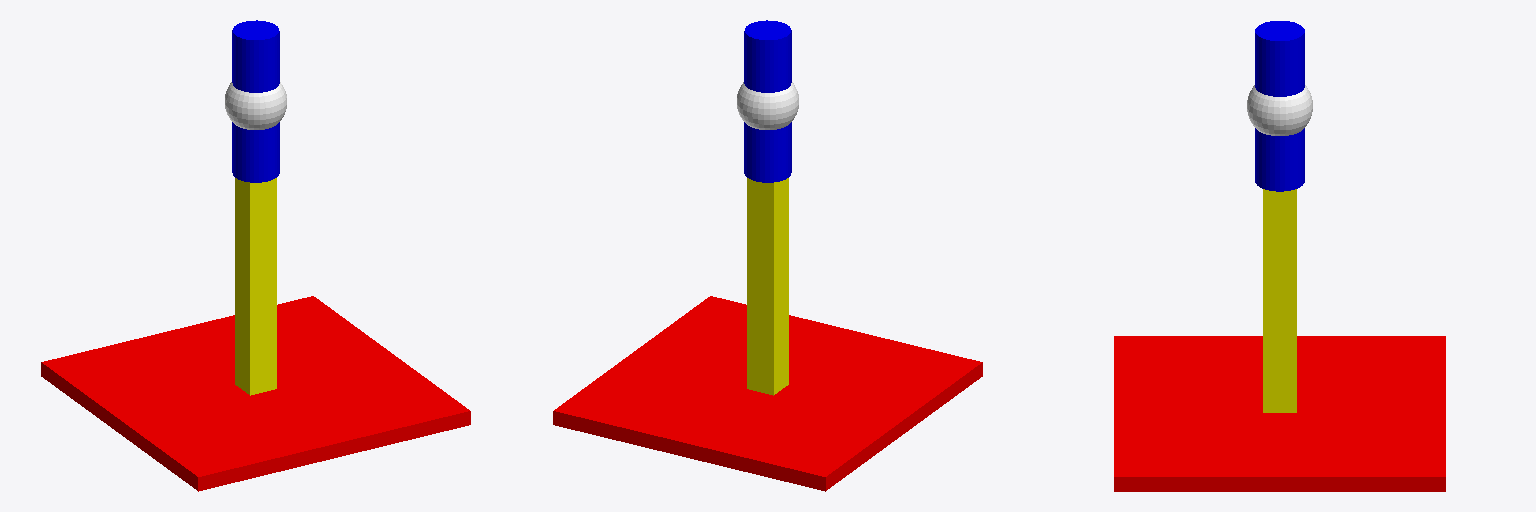
URDF robot description (pan_tilt):
<?xml version="1.0"?>
<robot name="pan_tilt">

	<!-- definire culori si transparenta -->
	<material name="white">
		<color rgba="1 1 1 0.3"/>
	</material>

	<material name="blue">
		<color rgba="0 0 1 0.5"/>
	</material>

	<material name="yellow">
		<color rgba="1 1 0 1"/>
	</material>

	<material name="red">
		<color rgba="1 0 0 0.8"/>
	</material>


	<!-- baza robotului -->
	<link name="base_link">

		<!-- baza robotului VIZUAL-->
		<visual>

			<!-- baza robotului GEOMETRIE-->
			<geometry>
				<box size="1 1 0.05"/>
			</geometry>
			<material name="red"/>
			<origin rpy="0 0 0" xyz="0 0 0.025"/>

		</visual>

	</link>


	<!-- element de tip pan -->
	<link name="pan_link">

		<!-- baza robotului VIZUAL-->
		<visual>

			<!-- baza robotului GEOMETRIE-->
			<geometry>
				<box size="0.1 0.1 1"/>
			</geometry>
			<material name="yellow"/>
			<origin rpy="0 0 0" xyz="0 0 0.5"/>
		</visual>

	</link>

	<!-- element de tip sfera -->
	<link name="sphere_link">

		<!-- baza robotului VIZUAL-->
		<visual>

			<!-- baza robotului GEOMETRIE-->
			<geometry>
				<sphere radius="0.1"/>
			</geometry>
			<material name="white"/>
			<origin rpy="0 0 0" xyz="0 0 0"/>
		</visual>

	</link>

	<!-- element de tip tilt -->
	<link name="tilt_link">

		<!-- baza robotului VIZUAL-->
		<visual>

			<!-- baza robotului GEOMETRIE-->
			<geometry>
				<cylinder length="0.5" radius="0.075"/>
			</geometry>
			<material name="blue"/>
			<origin rpy="0 0 0" xyz="0 0 0"/>
		</visual>

	</link>


	<!--CUPLE: baza robotului & paralelipiped -->
	<joint name="pan_joint" type="revolute">
		<parent link="base_link"/>
		<child link="pan_link"/>

		<origin xyz="0 0 0.05"/>
		<axis xyz="0 0 1" />
		<limit effort="300" velocity="0.1" lower="-3.14" upper="3.14"/>
	</joint>

	<!--CUPLE: paralelipiped & sfera -->
	<joint name="sphere_joint" type="fixed">
		<parent link="pan_link"/>
		<child link="sphere_link"/>

		<origin xyz="0 0 1"/>
	</joint>

	<!--CUPLE: element pan & element tilt -->
	<joint name="tilt_joint" type="revolute">
		<parent link="pan_link"/>
		<child link="tilt_link"/>

		<origin xyz="0 0 1"/>
		<!-- e relativa distanta de la originea link1 la link2 -->
		<axis xyz="0 1 0" />
        <!-- setari limite alte cuplului, vitezei unghiurilimita ale cuplei
        aici cupla are limita de -60deg...+60deg valorile sunt trecute in radiani
         -->
		<limit effort="300" velocity="0.1" lower="-1.0471" upper="1.0471"/>
	</joint>

</robot>

--- What the picture shows (computed from the rendered views, not written in the file) ---
The picture shows the robot from 3 angles, left to right: view 1: azimuth 30°, elevation 25°; view 2: azimuth 150°, elevation 25°; view 3: azimuth 270°, elevation 25°; orthographic projection.
Model pan_tilt with 4 links and 3 joints (2 revolute, 1 fixed), rooted at base_link, posed every joint at zero.
Links seen in each view (by area): view 1: base_link, pan_link, tilt_link, sphere_link; view 2: base_link, pan_link, tilt_link, sphere_link; view 3: base_link, pan_link, tilt_link, sphere_link.
Link boxes in pixels (x1,y1,x2,y2): base_link: (41, 296, 470, 491); pan_link: (235, 178, 276, 395); tilt_link: (232, 20, 279, 182); sphere_link: (225, 82, 286, 129); base_link: (553, 296, 982, 491); pan_link: (747, 178, 788, 395); tilt_link: (744, 20, 791, 182); sphere_link: (737, 82, 798, 129); base_link: (1114, 336, 1445, 491); pan_link: (1263, 189, 1296, 412); tilt_link: (1255, 21, 1304, 191); sphere_link: (1247, 85, 1312, 135).
Size in the robot's own frame: 1 by 1 by 1.3 metres.
Geometry: primitives only (box / cylinder / sphere), no mesh files.